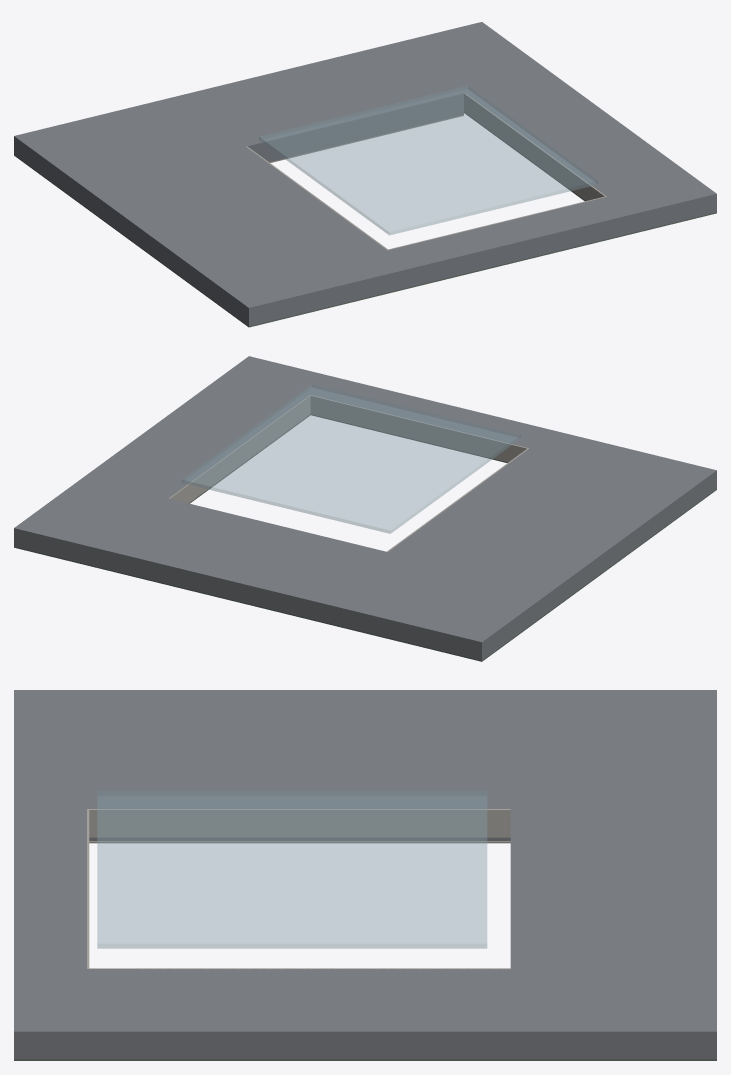
Rendered from BRU_M_T_S_OKT_Октябрьская_1.glb.
The picture shows the model from 3 angles, top to bottom: view 1: azimuth 30°, elevation 25°; view 2: azimuth 150°, elevation 25°; view 3: azimuth 270°, elevation 25°; orthographic projection. The views are drawn at different scales.
Parts seen in each view (by area): view 1: id-8, id-14, id-554, id-20, id-11; view 2: id-8, id-554, id-14, id-22, id-20, id-11; view 3: id-8, id-554, id-14, id-21, id-11, id-17.
Part boxes in pixels (x1=…): id-8: x1=14, y1=22, x2=716, y2=326; id-14: x1=125, y1=60, x2=463, y2=268; id-554: x1=259, y1=86, x2=597, y2=235; id-20: x1=464, y1=93, x2=606, y2=200; id-11: x1=14, y1=112, x2=716, y2=327; id-8: x1=14, y1=356, x2=716, y2=660; id-554: x1=182, y1=384, x2=520, y2=533; id-14: x1=125, y1=449, x2=604, y2=603; id-22: x1=310, y1=395, x2=527, y2=462; id-20: x1=169, y1=395, x2=310, y2=503; id-11: x1=14, y1=414, x2=716, y2=661; id-8: x1=14, y1=690, x2=716, y2=1059; id-554: x1=97, y1=791, x2=486, y2=948; id-14: x1=89, y1=753, x2=646, y2=968; id-21: x1=87, y1=809, x2=510, y2=837; id-11: x1=14, y1=1059, x2=716, y2=1060; id-17: x1=89, y1=841, x2=510, y2=843.
Bounding box in the file's own units: 3.45 × 0.283 × 3.
